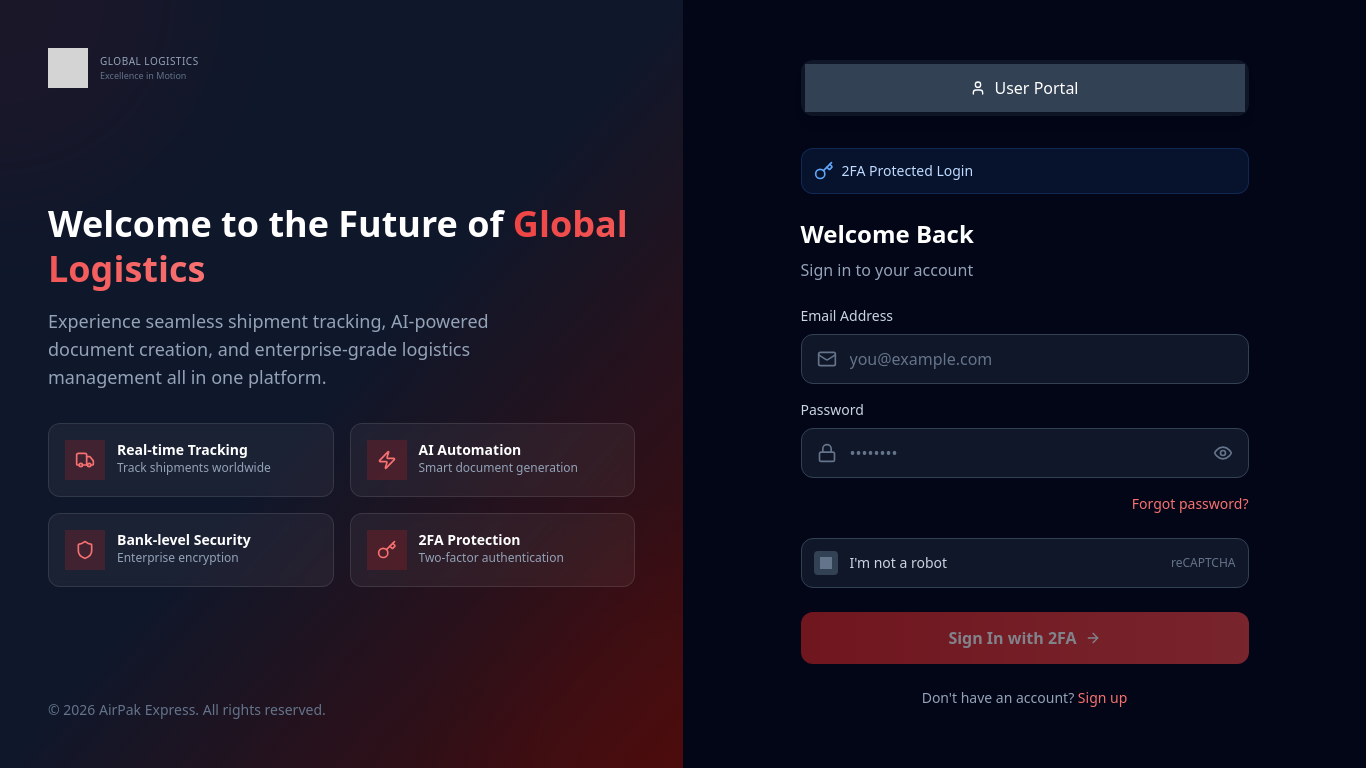
UnifiedAuthPage › Form Interactions › should return to login when clicking sign in from forgot password
What coordinates should you click on to do the following:
click the button "Forgot password?"
I would click on:
 (1190, 504)
Its box is [1132,494,1248,514].
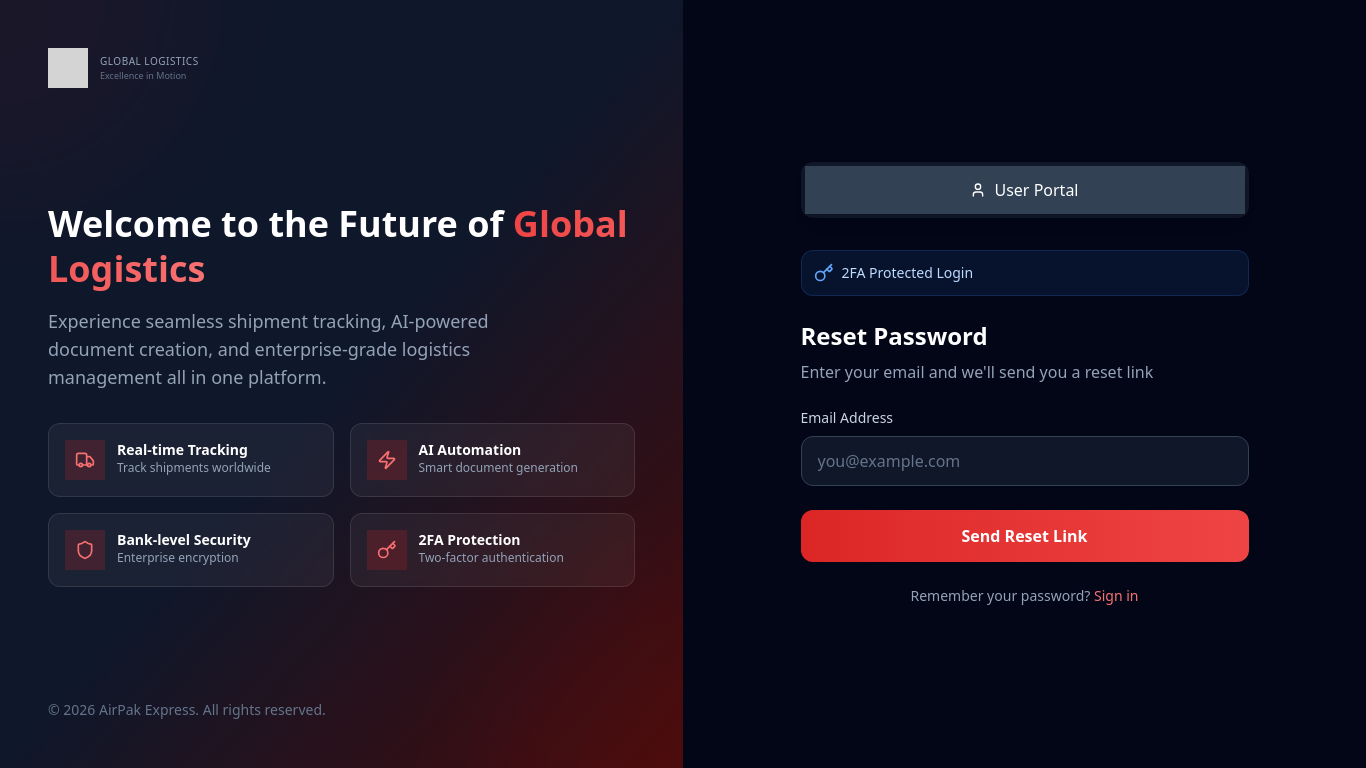
Check: the heading "Reset Password" is shown, box [800,319,988,352]
What coordinates should you click on to do the following:
click the button "Sign in"
I would click on:
 (1116, 596)
Its box is [1094,586,1138,606].
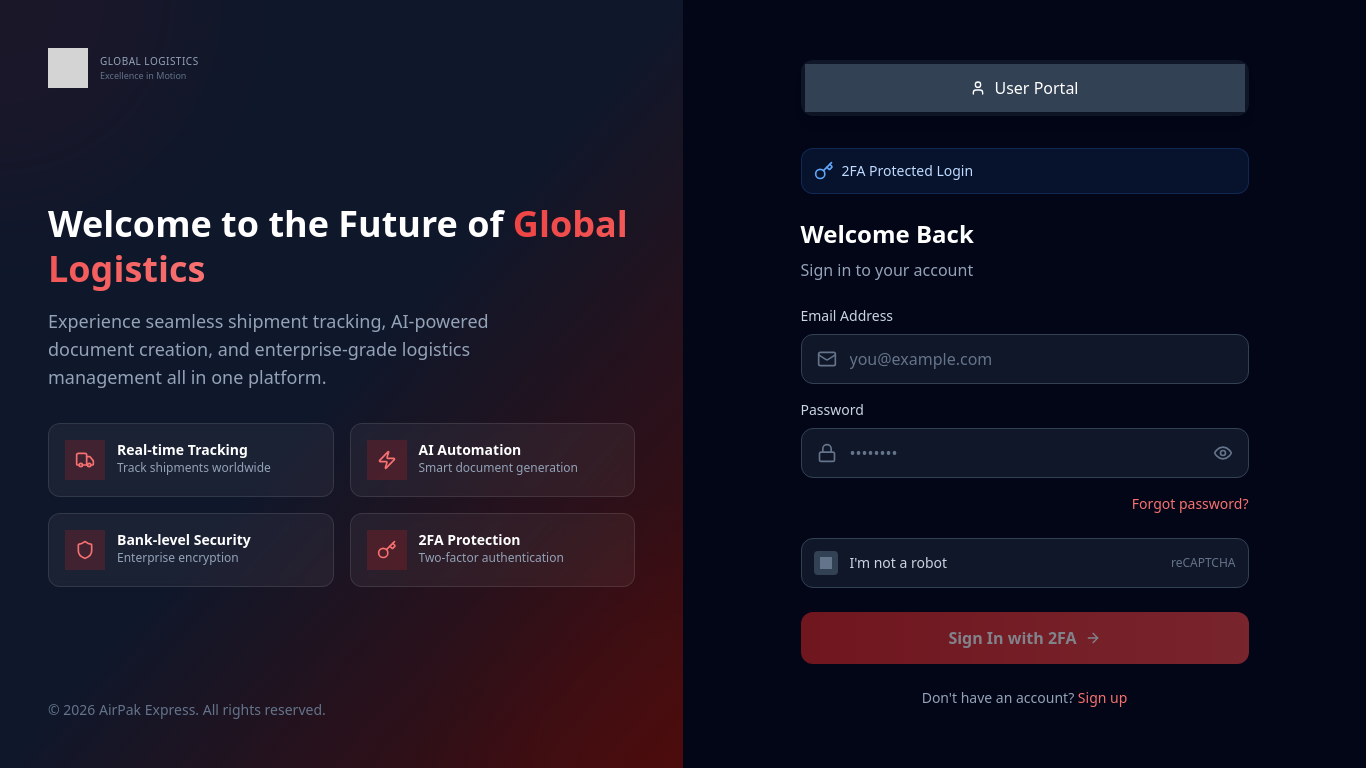
Check: the heading "Welcome Back" is shown, box [800,217,974,250]
